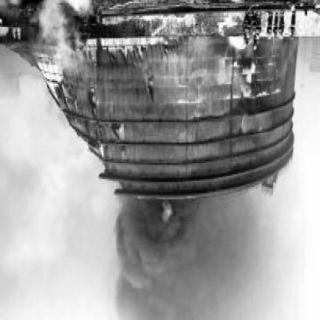Fire: (162, 204, 176, 228)
Smoke: (115, 204, 221, 320)
